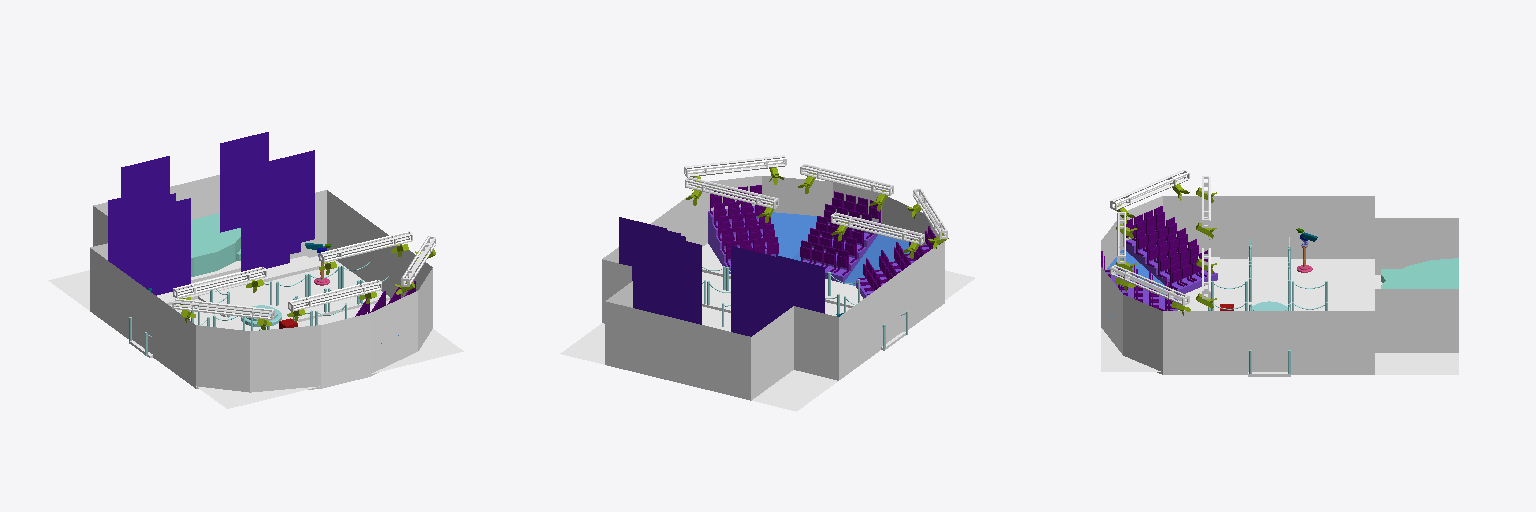
File: Base_prefab.obj
The picture shows the model from 3 angles: view 1: azimuth 30°, elevation 25°; view 2: azimuth 150°, elevation 25°; view 3: azimuth 270°, elevation 25°; orthographic projection.
Visible parts, largest first — view 1: Walls_front, Walls_back, Plane004, Curtain_008, Curtain_001, Curtain_007, Cylinder005, Box012, Curtain_003, Curtain_004, Curtain_005, Box001 (+2 smaller); view 2: Walls_back, Walls_front, Plane004, Curtain_007, Curtain_004, Curtain_003, Walkway_002, Curtain_008, Walkway_001, Box001, Seating_002, Box012 (+2 smaller); view 3: Walls_back, Walls_front, Plane004, Box012, Cylinder005, Box001, Seating_003.
Boxes of the visible parts, x1=… form: Walls_front: x1=167, y1=250, x2=432, y2=392; Walls_back: x1=90, y1=175, x2=403, y2=366; Plane004: x1=48, y1=256, x2=463, y2=408; Curtain_008: x1=241, y1=174, x2=289, y2=274; Curtain_001: x1=142, y1=198, x2=190, y2=295; Curtain_007: x1=220, y1=132, x2=268, y2=232; Cylinder005: x1=191, y1=213, x2=240, y2=276; Box012: x1=129, y1=284, x2=389, y2=357; Curtain_003: x1=108, y1=189, x2=156, y2=273; Curtain_004: x1=121, y1=156, x2=169, y2=197; Curtain_005: x1=266, y1=150, x2=314, y2=242; Box001: x1=157, y1=256, x2=319, y2=305; Walls_back: x1=602, y1=203, x2=915, y2=400; Walls_front: x1=679, y1=176, x2=944, y2=323; Plane004: x1=560, y1=243, x2=974, y2=411; Curtain_007: x1=632, y1=222, x2=680, y2=319; Curtain_004: x1=731, y1=246, x2=779, y2=336; Curtain_003: x1=776, y1=255, x2=824, y2=315; Walkway_002: x1=771, y1=212, x2=821, y2=260; Curtain_008: x1=686, y1=241, x2=701, y2=324; Walkway_001: x1=844, y1=232, x2=909, y2=285; Box001: x1=605, y1=359, x2=817, y2=400; Seating_002: x1=803, y1=212, x2=881, y2=282; Box012: x1=702, y1=283, x2=905, y2=350; Walls_back: x1=1219, y1=196, x2=1458, y2=374; Walls_front: x1=1101, y1=196, x2=1219, y2=374; Plane004: x1=1101, y1=257, x2=1458, y2=374; Box012: x1=1220, y1=257, x2=1346, y2=376; Cylinder005: x1=1381, y1=258, x2=1458, y2=288; Box001: x1=1347, y1=266, x2=1458, y2=351; Seating_003: x1=1126, y1=230, x2=1217, y2=295.
Size of the model in its own units: 2165 by 960 by 2550.